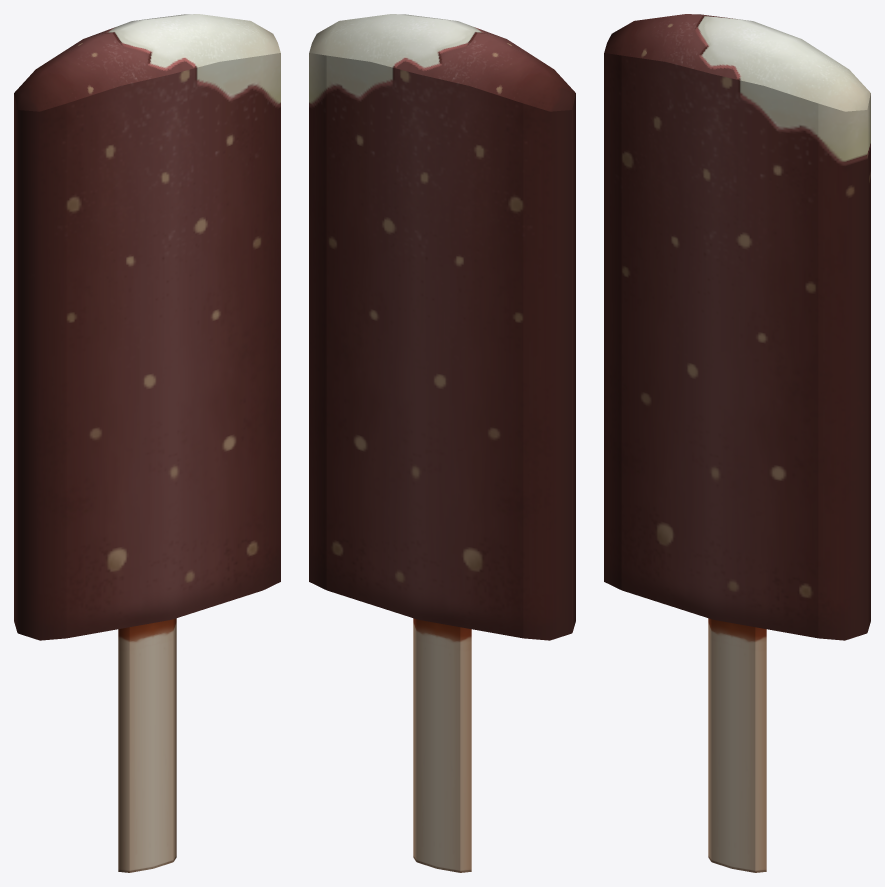
The model's file is Boost_AdrenalineSyringe_Base_0_Mod.FBX.
3 renders of one model, left to right at view 1: azimuth 30°, elevation 25°; view 2: azimuth 150°, elevation 25°; view 3: azimuth 330°, elevation 25°, orthographic.
Visible parts, largest first — view 1: Boost_AdrenalineSyringe_Base_0_Mod001; view 2: Boost_AdrenalineSyringe_Base_0_Mod001; view 3: Boost_AdrenalineSyringe_Base_0_Mod001.
Boxes of the visible parts, x1,y1,x2,y2 form: Boost_AdrenalineSyringe_Base_0_Mod001: (14, 14, 280, 872); Boost_AdrenalineSyringe_Base_0_Mod001: (309, 14, 575, 872); Boost_AdrenalineSyringe_Base_0_Mod001: (604, 14, 870, 872).
Size of the model in its own units: 9.85 by 30.6 by 3.23.
